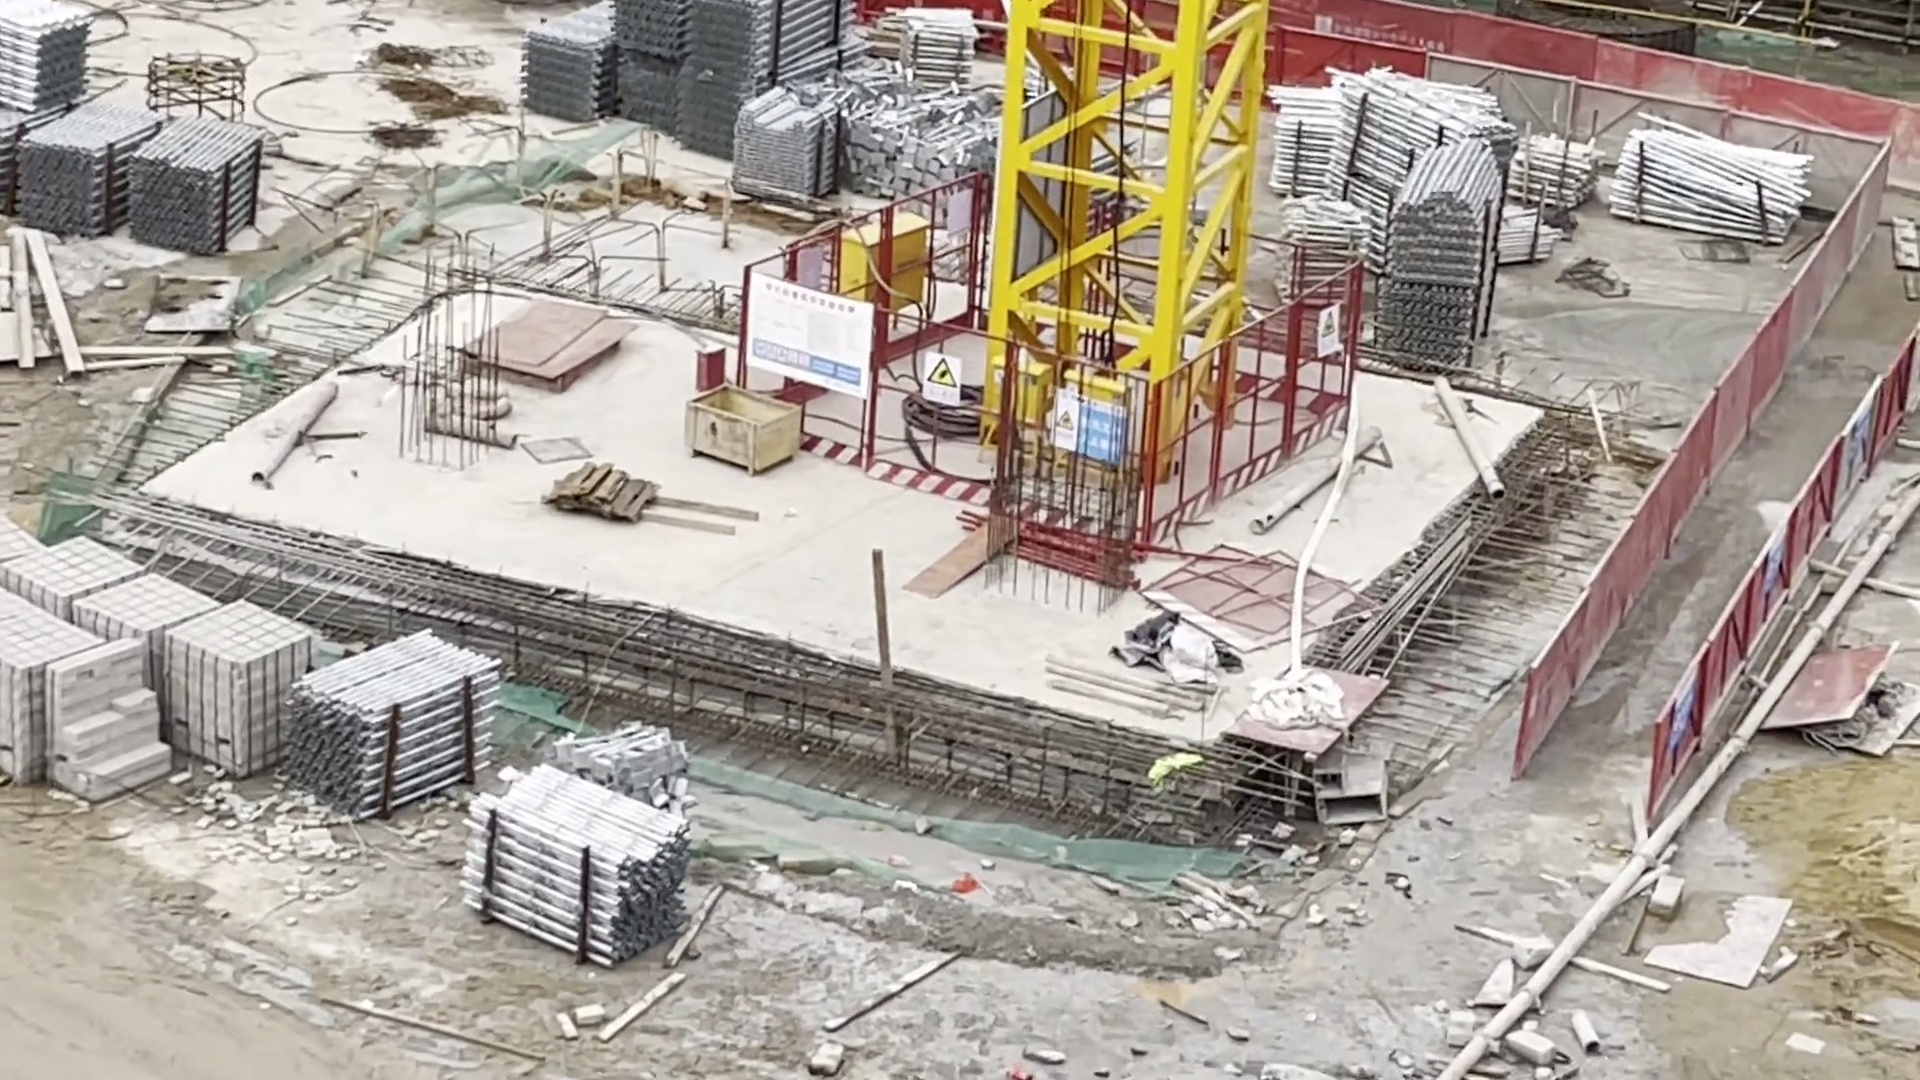brick: (1, 491, 326, 822)
ebox: (977, 338, 1150, 477), (819, 200, 942, 314)
fence: (729, 274, 1149, 574), (1279, 32, 1920, 218), (1098, 274, 1389, 537), (980, 169, 1365, 359), (1642, 338, 1797, 724), (1495, 505, 1683, 823), (1758, 193, 1919, 554), (725, 179, 992, 392)
hopper: (680, 380, 811, 476)
scaffold: (1269, 65, 1818, 388), (522, 1, 1000, 235), (3, 1, 266, 258), (452, 765, 708, 982), (287, 622, 504, 823)
slogan: (735, 272, 891, 400), (1027, 382, 1142, 469), (1660, 673, 1710, 775), (913, 345, 965, 411), (1309, 301, 1356, 357)
